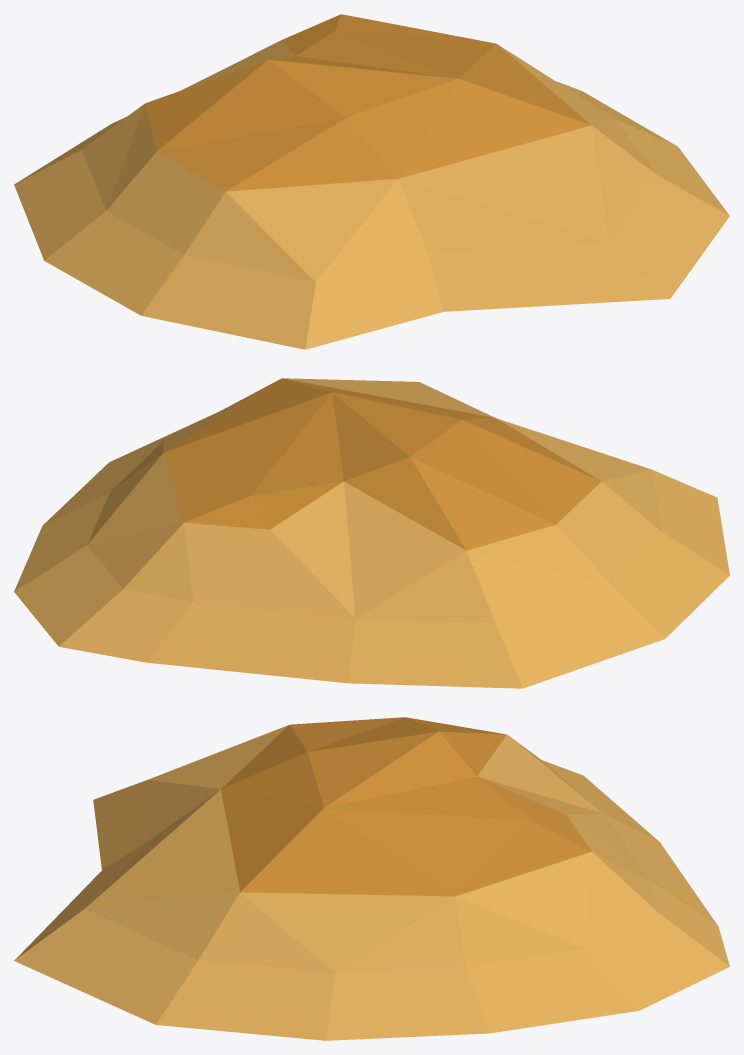
The model's file is island_1.fbx.
3 renders of one model, top to bottom at view 1: azimuth 30°, elevation 25°; view 2: azimuth 150°, elevation 25°; view 3: azimuth 270°, elevation 25°, orthographic.
Parts seen in each view (by area): view 1: island_1; view 2: island_1; view 3: island_1.
Part boxes in pixels (box(x1,y1,x2,y2)): island_1: box(14, 14, 729, 349); island_1: box(14, 378, 729, 688); island_1: box(14, 717, 729, 1040).
Bounding box in the file's own units: 1212 × 259 × 1253.
